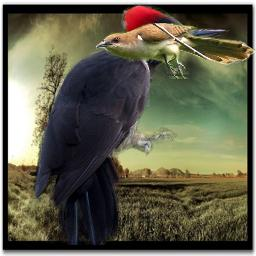Cuckoo: (96, 23, 256, 79)
Woodpecker: (25, 3, 230, 245)
